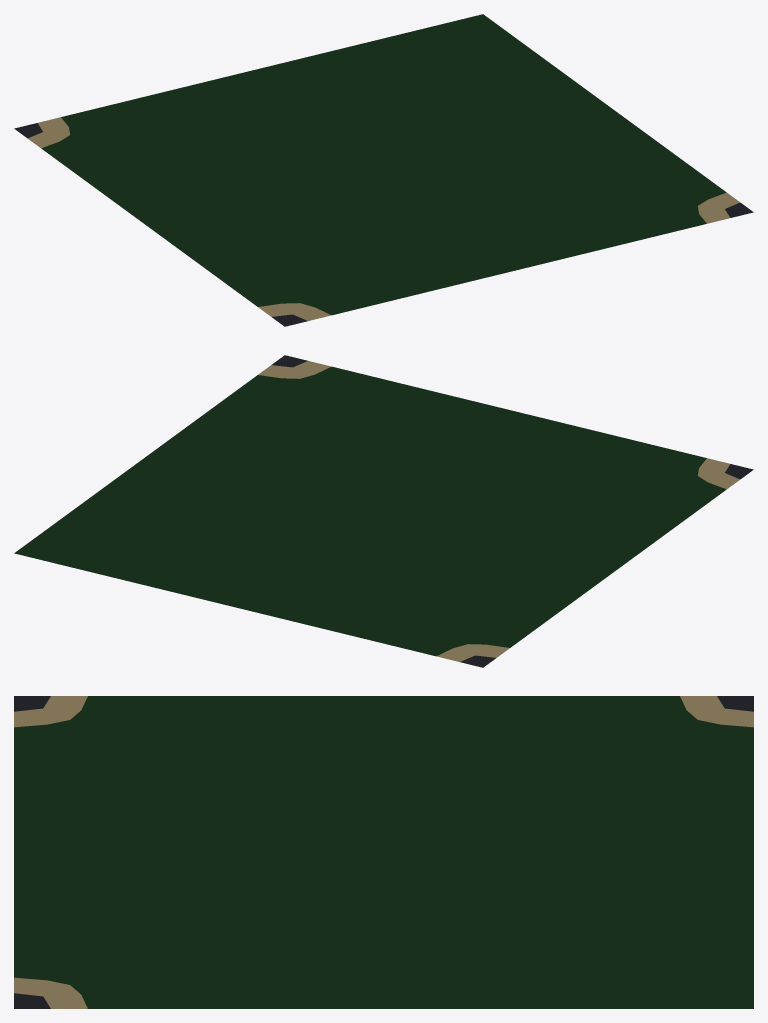
File: terrain_plain_shoreangle.fbx
3 renders of one model, top to bottom at view 1: azimuth 30°, elevation 25°; view 2: azimuth 150°, elevation 25°; view 3: azimuth 270°, elevation 25°, orthographic. The views are drawn at different scales.
Parts seen in each view (by area): view 1: terrain_plain_shoreangle; view 2: terrain_plain_shoreangle; view 3: terrain_plain_shoreangle.
Boxes of the visible parts, box(x1,y1,x2,y2) form: terrain_plain_shoreangle: box(14, 14, 753, 326); terrain_plain_shoreangle: box(14, 355, 753, 667); terrain_plain_shoreangle: box(14, 696, 753, 1008).
Bounding box in the file's own units: 10 × 0 × 10.
